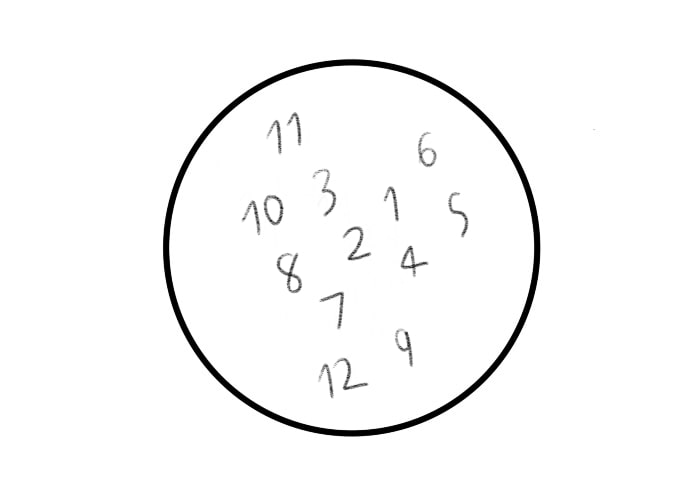eight: (273, 245, 304, 296)
eleven: (265, 112, 304, 154)
five: (447, 187, 469, 239)
four: (398, 243, 430, 280)
nine: (393, 323, 416, 367)
one: (382, 181, 402, 222)
seven: (317, 289, 346, 328)
six: (416, 126, 438, 169)
ten: (241, 192, 285, 236)
three: (311, 167, 337, 220)
twelve: (317, 355, 369, 399)
two: (339, 225, 371, 260)
